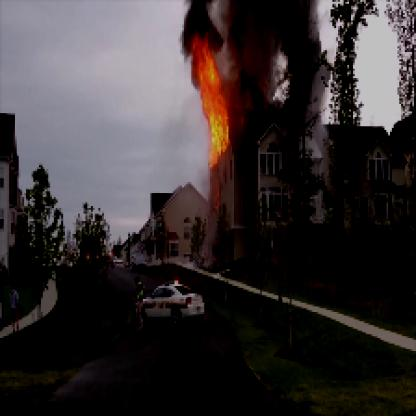Fire: (187, 37, 236, 167)
Smoke: (217, 2, 314, 141)
